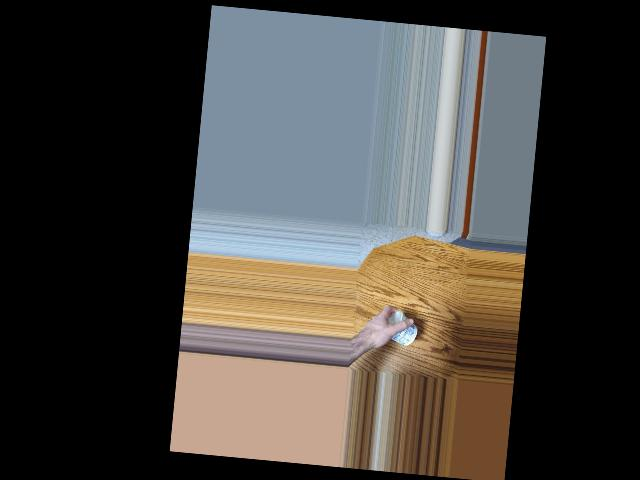cotage: (380, 309, 417, 352)
